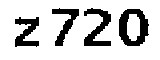0: (118, 6, 149, 48)
2: (83, 3, 113, 48)
7: (48, 5, 81, 49)
z: (10, 15, 43, 51)
